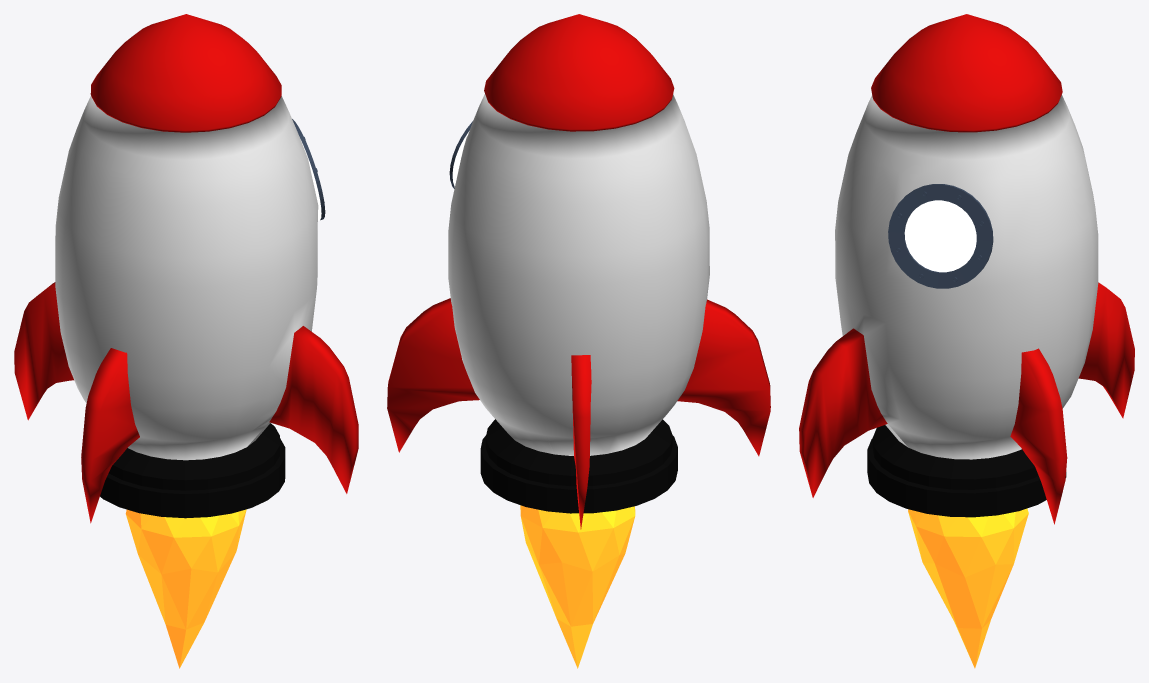
File: rocket.glb
3 renders of one model, left to right at view 1: azimuth 30°, elevation 25°; view 2: azimuth 150°, elevation 25°; view 3: azimuth 270°, elevation 25°, orthographic.
Visible parts, largest first — view 1: Cylinder, Icosphere; view 2: Cylinder, Icosphere; view 3: Cylinder, Icosphere.
Part boxes in pixels (x1=…): Cylinder: x1=14, y1=14, x2=358, y2=523; Icosphere: x1=125, y1=509, x2=246, y2=668; Cylinder: x1=387, y1=14, x2=770, y2=529; Icosphere: x1=520, y1=505, x2=635, y2=668; Cylinder: x1=799, y1=14, x2=1134, y2=524; Icosphere: x1=908, y1=508, x2=1028, y2=668.
Bounding box in the file's own units: 2.43 × 5.15 × 2.39.
